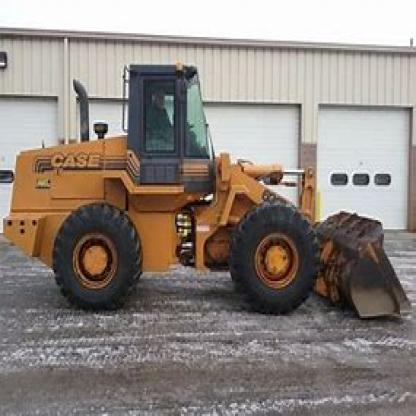bull_dozer/loader/grader: (1, 52, 414, 322)
